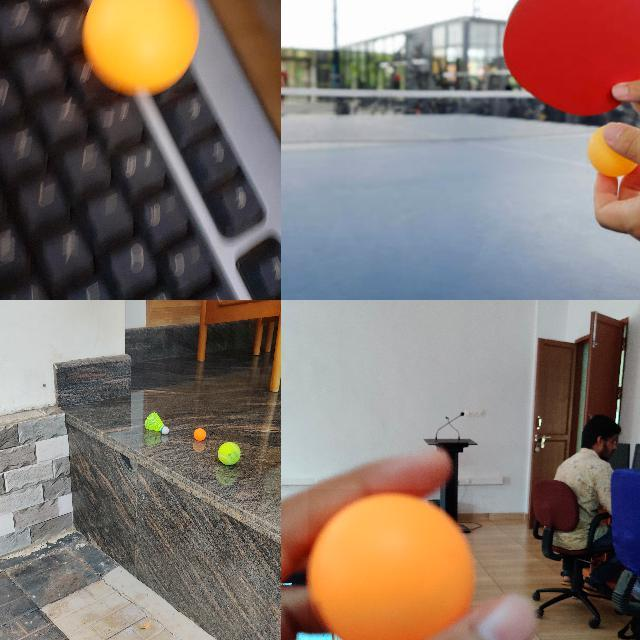ping-pong-ball: (308, 488, 475, 639), (86, 0, 199, 95), (586, 124, 638, 176), (194, 428, 206, 440)
